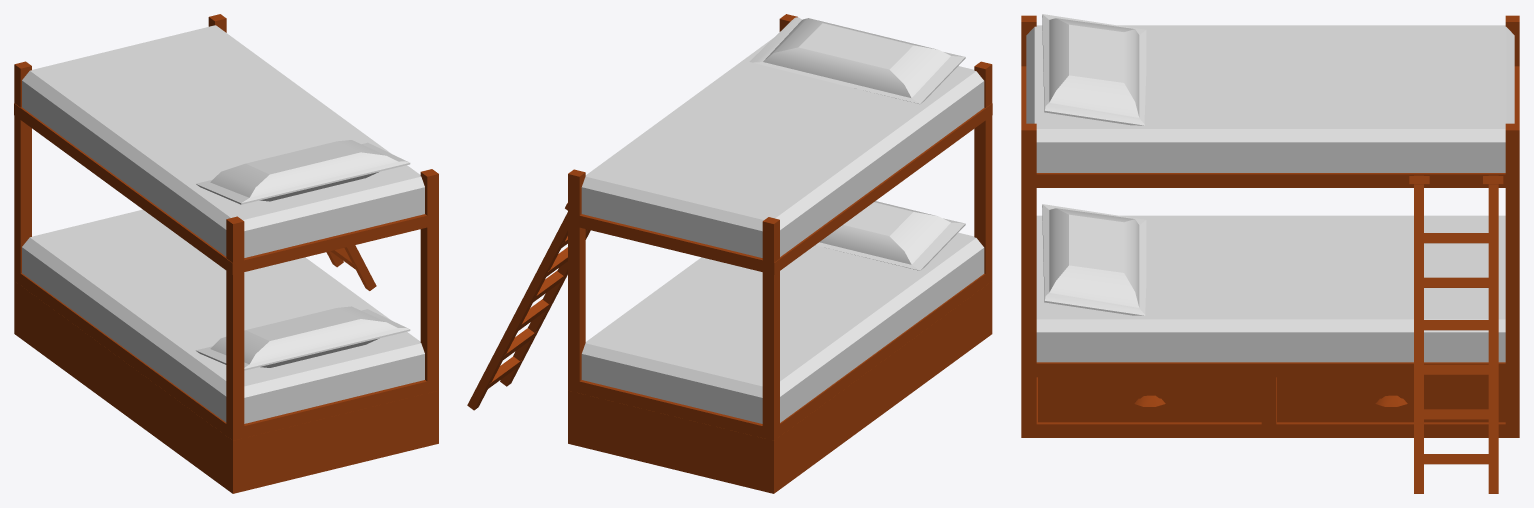
File: f_bunk_bed.fbx
3 views of the same model, side by side, from view 1: azimuth 30°, elevation 25°; view 2: azimuth 150°, elevation 25°; view 3: azimuth 270°, elevation 25° (orthographic). The views are drawn at different scales.
Visible parts, largest first — view 1: bed3, bed4, base_frame2, base_frame, pillow3, pillow4, frame1, LadderSide1; view 2: bed3, bed4, base_frame2, base_frame, pillow3, frame1, pillow4, LadderSide, LadderSide1; view 3: bed3, bed4, base_frame, pillow4, pillow3, draw3, base_frame2, draw4, frame1, LadderSide, LadderSide1, Foothold2 (+5 smaller).
Part boxes in pixels (box(x1,y1,x2,y2)): bed3: box(22, 25, 424, 257); bed4: box(22, 209, 424, 423); base_frame2: box(14, 281, 438, 493); base_frame: box(14, 14, 438, 440); pillow3: box(196, 140, 410, 204); pillow4: box(196, 306, 410, 370); frame1: box(14, 103, 438, 274); LadderSide1: box(344, 245, 376, 290); bed3: box(581, 38, 984, 257); bed4: box(581, 232, 984, 423); base_frame2: box(568, 281, 992, 493); base_frame: box(568, 14, 992, 440); pillow3: box(749, 17, 965, 103); frame1: box(568, 103, 992, 274); pillow4: box(815, 201, 965, 270); LadderSide: box(467, 212, 567, 410); LadderSide1: box(500, 229, 590, 386); bed3: box(1026, 25, 1514, 172); bed4: box(1036, 215, 1505, 362); base_frame: box(1021, 15, 1519, 377); pillow4: box(1042, 204, 1146, 315); pillow3: box(1042, 14, 1146, 125); draw3: box(1038, 377, 1261, 422); base_frame2: box(1021, 377, 1519, 437); draw4: box(1277, 377, 1505, 422); frame1: box(1021, 66, 1519, 187); LadderSide: box(1488, 175, 1498, 493); LadderSide1: box(1414, 175, 1423, 493); Foothold2: box(1419, 364, 1492, 374).
Size of the model in its own units: 169 by 148 by 202.
Materials: 1 (1 with a texture image).
